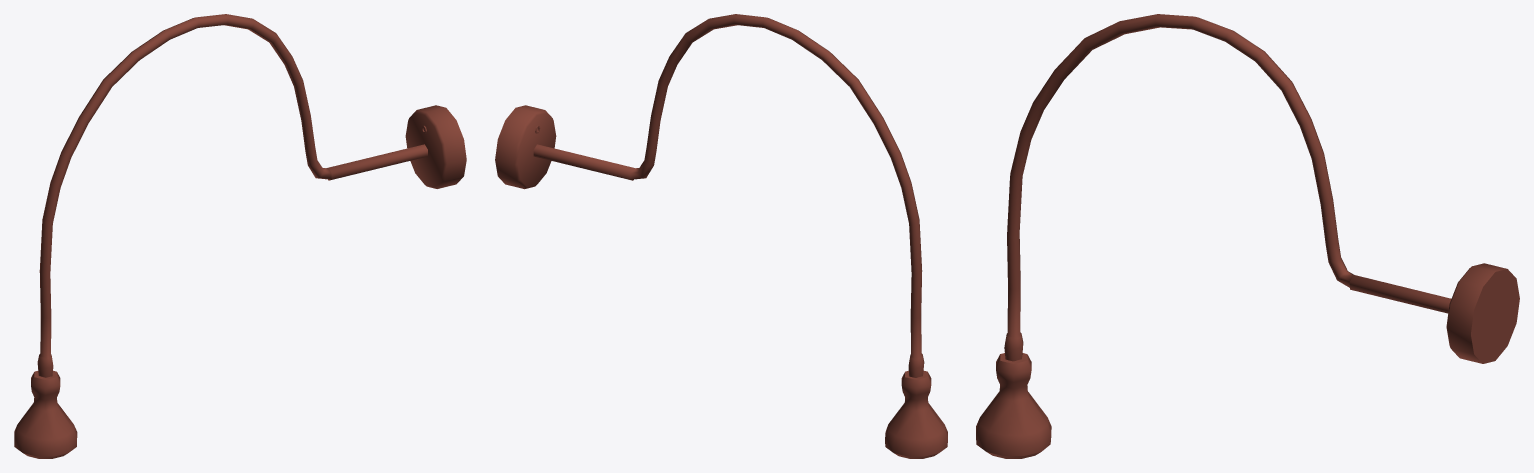
File: JansjoWalllamp.FBX
3 views of the same model, side by side, from view 1: azimuth 30°, elevation 25°; view 2: azimuth 150°, elevation 25°; view 3: azimuth 330°, elevation 25° (orthographic). The views are drawn at different scales.
Visible parts, largest first — view 1: JansjoWalllamp; view 2: JansjoWalllamp; view 3: JansjoWalllamp.
Boxes of the visible parts, x1,y1,x2,y2 form: JansjoWalllamp: (14, 14, 466, 458); JansjoWalllamp: (495, 14, 947, 458); JansjoWalllamp: (976, 14, 1519, 458).
Bounding box in the file's own units: 767 × 676 × 127.
